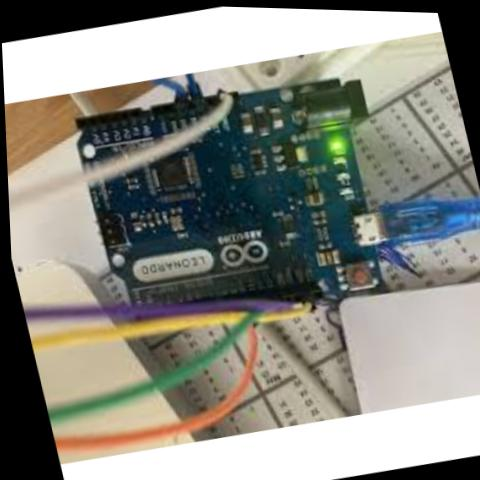Arduino-Leonardo: (54, 53, 410, 356)
